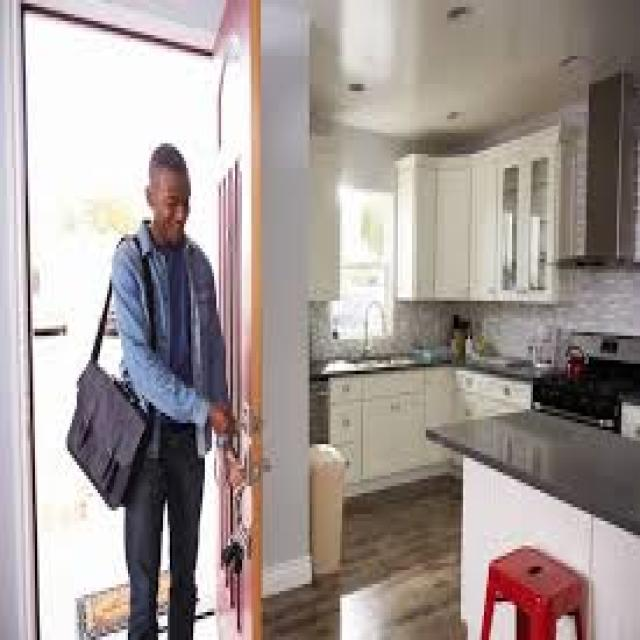person-without-mask: (80, 140, 253, 640)
